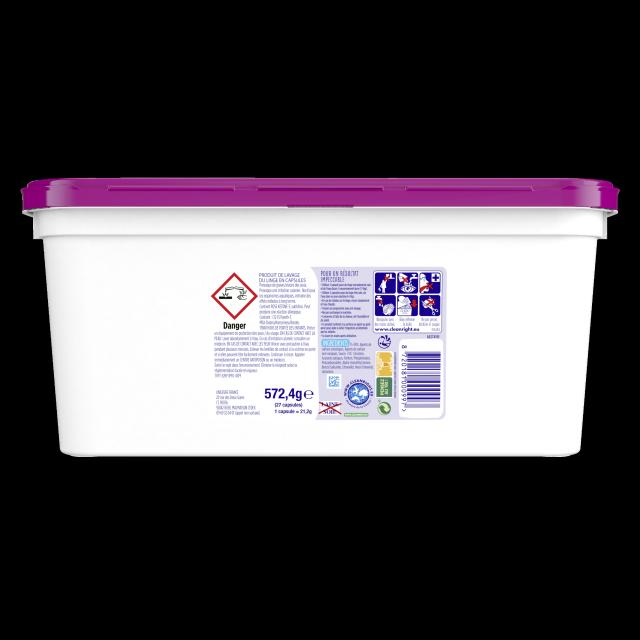GHS_Symbol_CORROSION: (209, 272, 257, 320)
